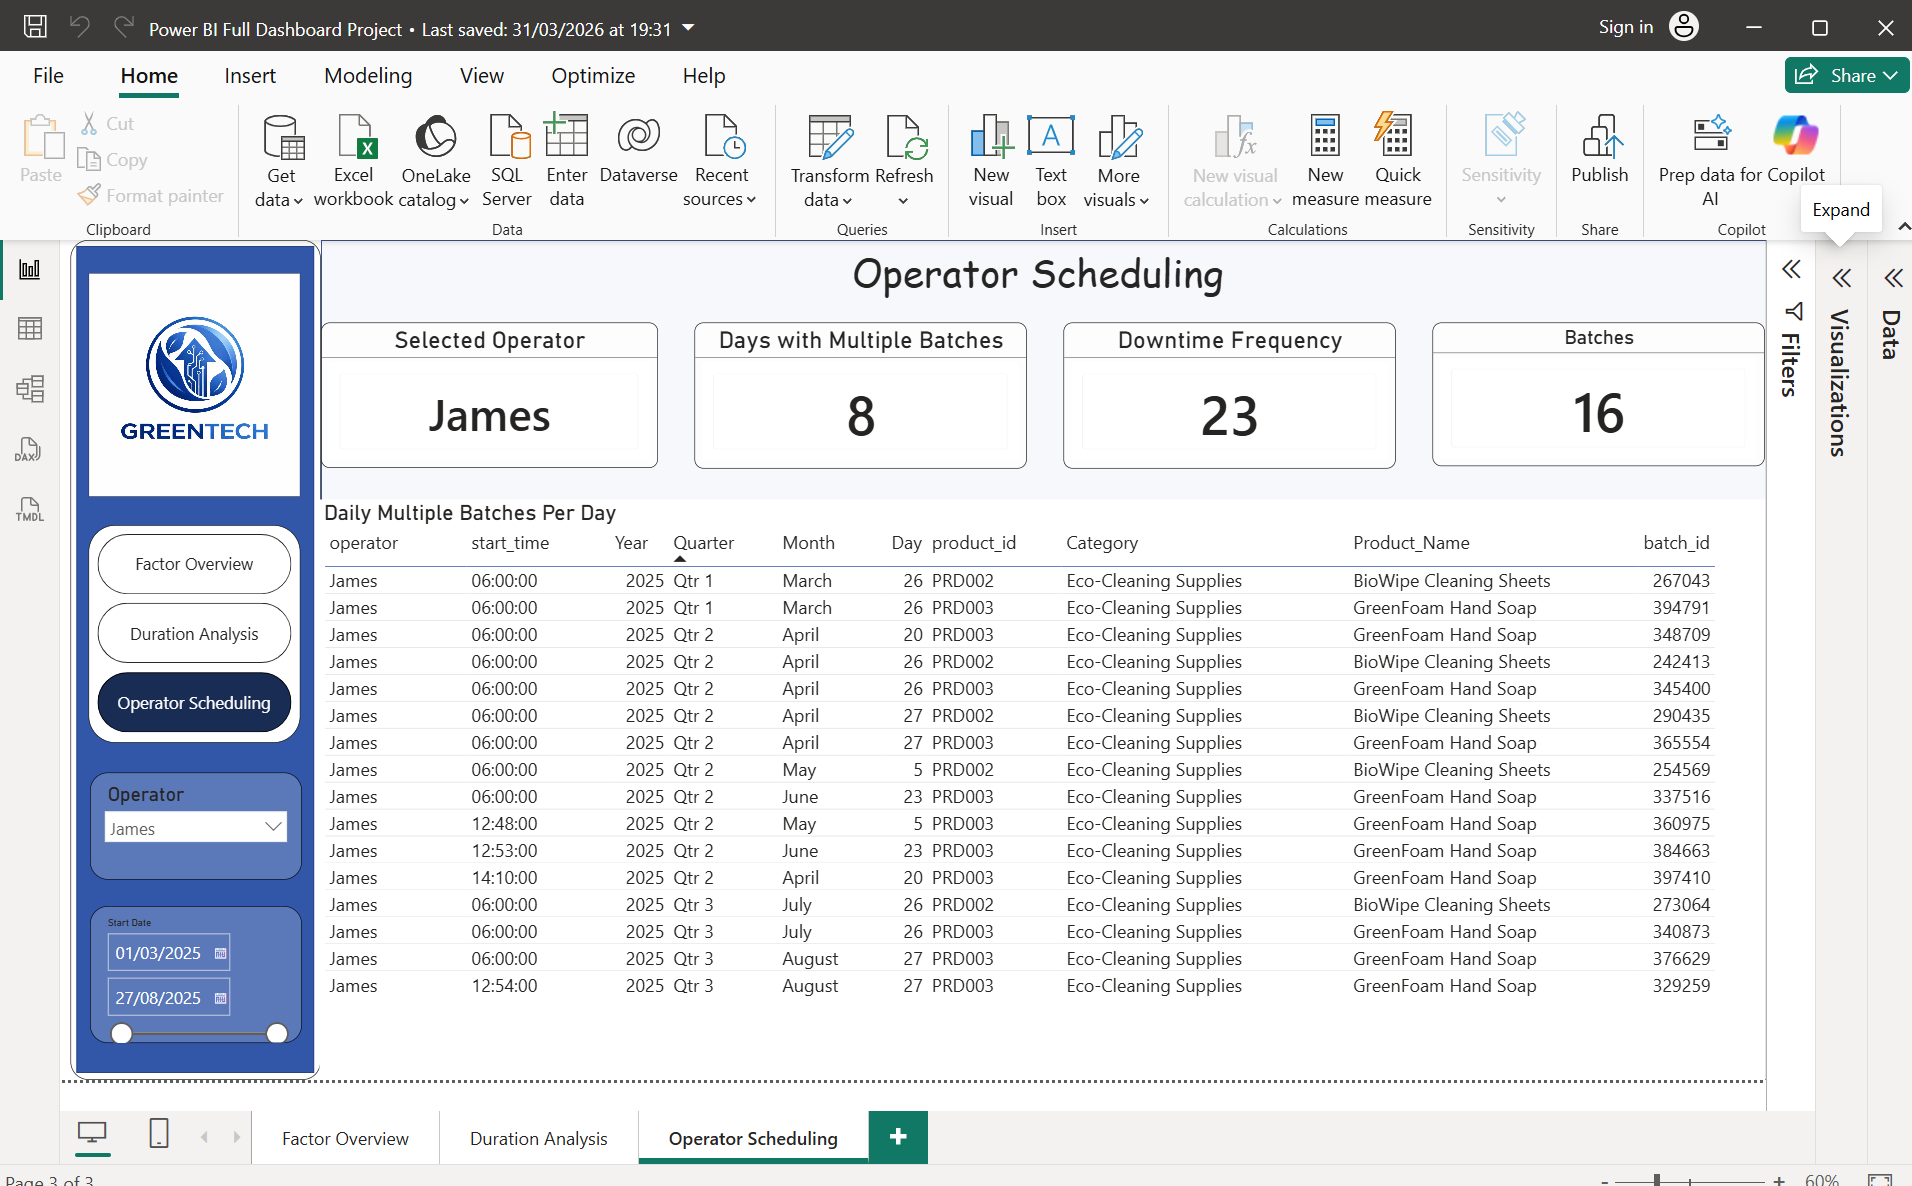

Layout of this report page (visuals, bound fields, positions):
{"tool":"powerbi","page":{"name":"Operator Scheduling","canvas":[1900,936],"ordinal":2},"visuals":[{"type":"shape","box":[290.6,0,1610.2,935.2],"z":0},{"type":"textbox","box":[289.9,0,1609.3,71.9],"z":1000},{"type":"cardVisual","title":"Selected Operator","fields":{"Data":["batch_pd.selected operator"]},"box":[290.6,92.2,375,162],"z":2000},{"type":"cardVisual","title":"Days with Multiple Batches","fields":{"Data":["Count(batch_pd.start_date)"]},"box":[706.5,92.2,370.3,162.7],"z":3000},{"type":"cardVisual","title":"Downtime Frequency","fields":{"Data":["CountNonNull(downtimes.factor_id)"]},"box":[1117.7,92.2,370.3,162.7],"z":5000},{"type":"cardVisual","title":"Batches","fields":{"Data":["CountNonNull(batch_pd.batch_id)"]},"box":[1528.8,92.2,370.3,159.9],"z":6000},{"type":"shape","box":[11.2,0,278.7,935],"z":8000},{"type":"slicer","fields":{"Values":["batch_pd.operator"]},"box":[33.7,593.4,236,119.1],"z":9000},{"type":"slicer","fields":{"Values":["batch_pd.start_date"]},"box":[33.7,741.7,236,152.8],"z":10000},{"type":"image","box":[31.5,36,236,249.5],"z":11000},{"type":"pageNavigator","box":[31.5,316.9,236,242.7],"z":12000},{"type":"tableEx","title":"Daily Multiple Batches Per Day","fields":{"Values":["batch_pd.operator","batch_pd.start_time","batch_pd.start_date.Variation.Date Hierarchy.Year","batch_pd.start_date.Variation.Date Hierarchy.Quarter","batch_pd.start_date.Variation.Date Hierarchy.Month","batch_pd.start_date.Variation.Date Hierarchy.Day","batch_pd.product_id","products.Category","products.Product_Name","batch_pd.batch_id"]},"box":[288.9,288.9,1610.2,648],"z":13000}]}

Visuals, with their boxes on the page's 1900x936 design canvas (x1, y1, x2, y2). These are canvas units, not pixel positions in the 1912x1186 screenshot, which may show the page scaled, cropped or inside an application window:
shape: 291:0:1901:935
textbox: 290:0:1899:72
"Selected Operator" cardVisual: 291:92:666:254
"Days with Multiple Batches" cardVisual: 706:92:1077:255
"Downtime Frequency" cardVisual: 1118:92:1488:255
"Batches" cardVisual: 1529:92:1899:252
shape: 11:0:290:935
slicer - batch_pd.operator: 34:593:270:712
slicer - batch_pd.start_date: 34:742:270:894
image: 32:36:268:286
pageNavigator: 32:317:268:560
"Daily Multiple Batches Per Day" tableEx: 289:289:1899:937
